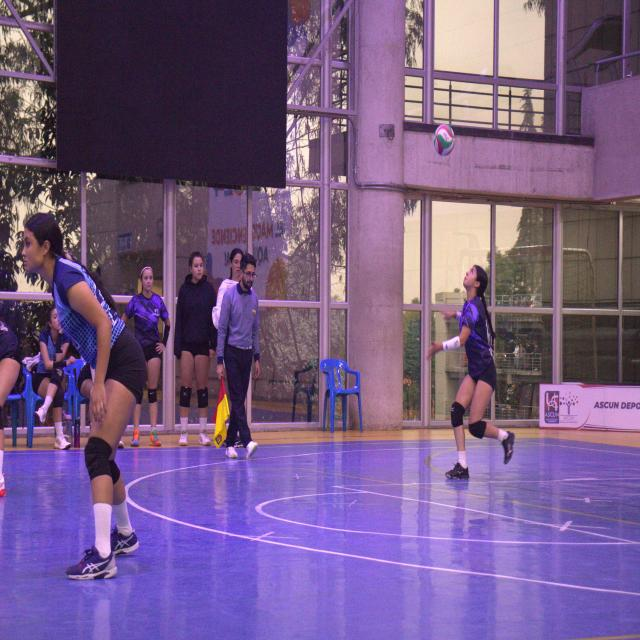volleyball: (434, 124, 454, 157)
